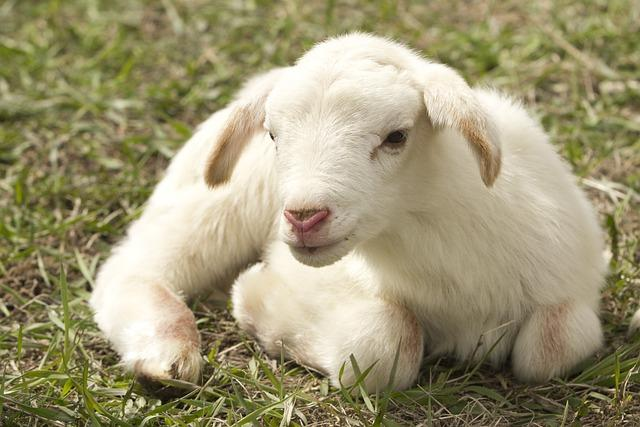Non_Gorille: (116, 15, 624, 399)
